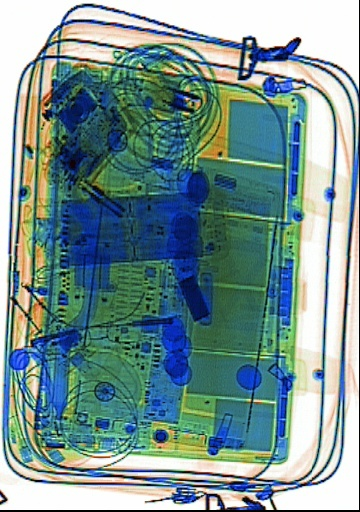powerbank: (52, 184, 229, 269)
